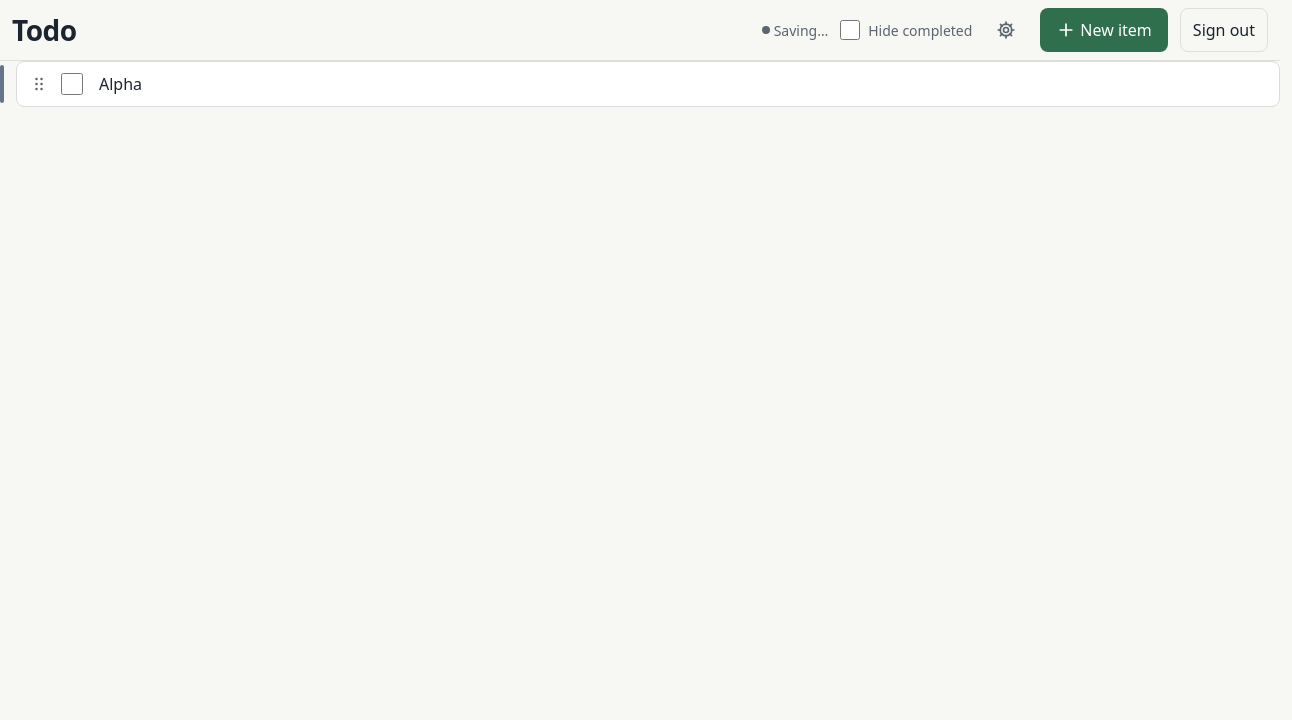
Scenario: editor flow › opening Edit twice closes it
The width and height of the screenshot is (1292, 720).
Click the button "Alpha" at (121, 84), box [91,62,1279,106]
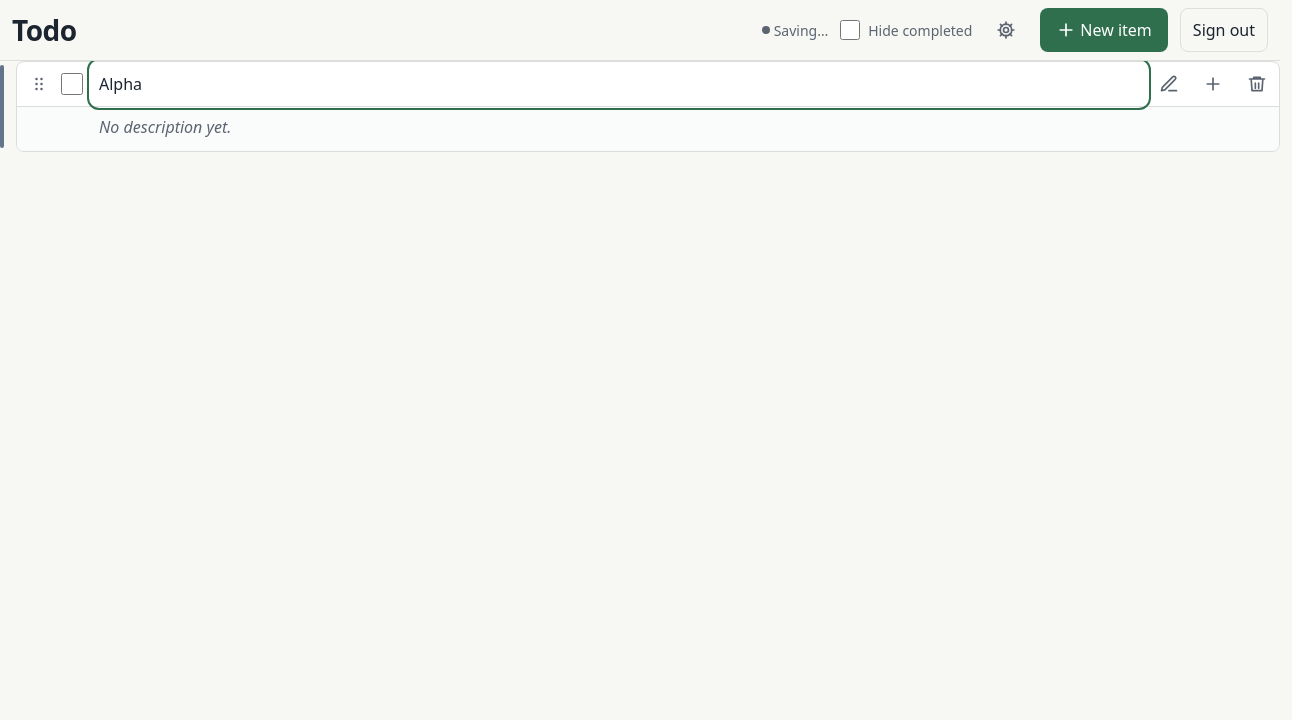
Click the button named "Edit Alpha" at (1169, 84), box [1147,62,1191,106]
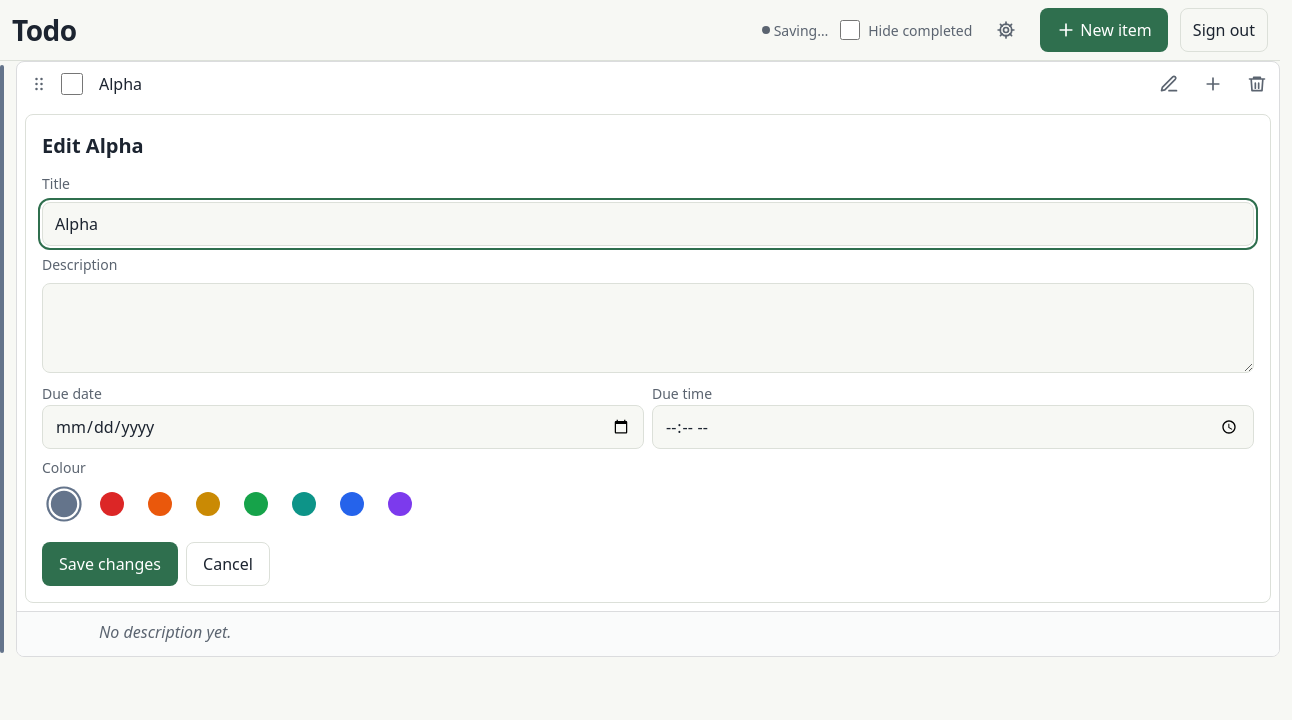
Expected: the form "Edit Alpha" is shown
Click the button named "Edit Alpha" at (1169, 84), box [1147,62,1191,106]
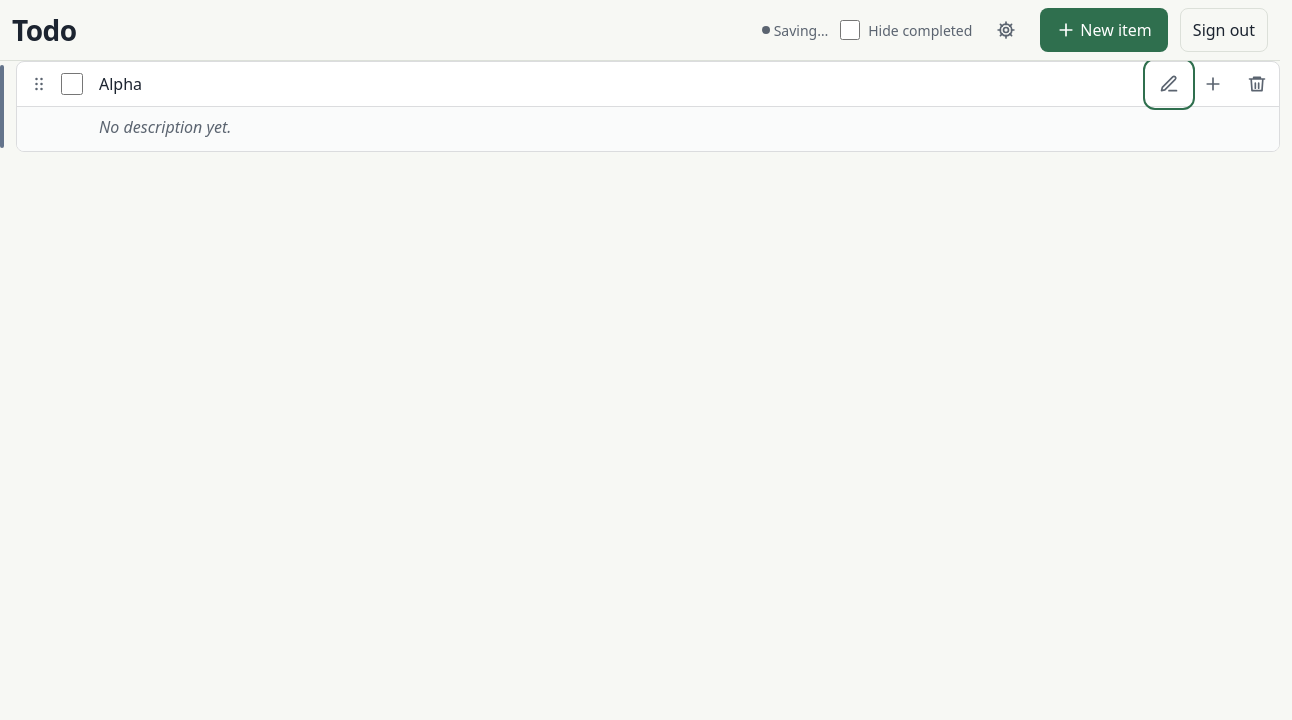
Expected: the heading "Edit Alpha" is gone
